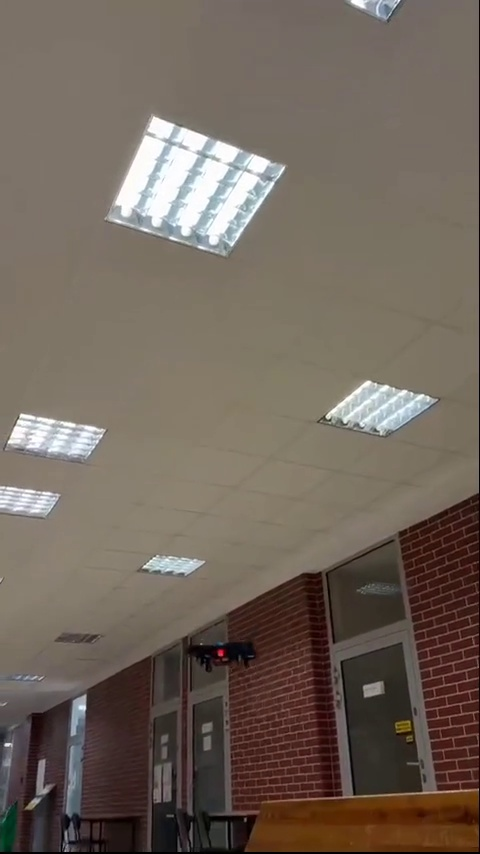drone: (183, 635, 256, 673)
